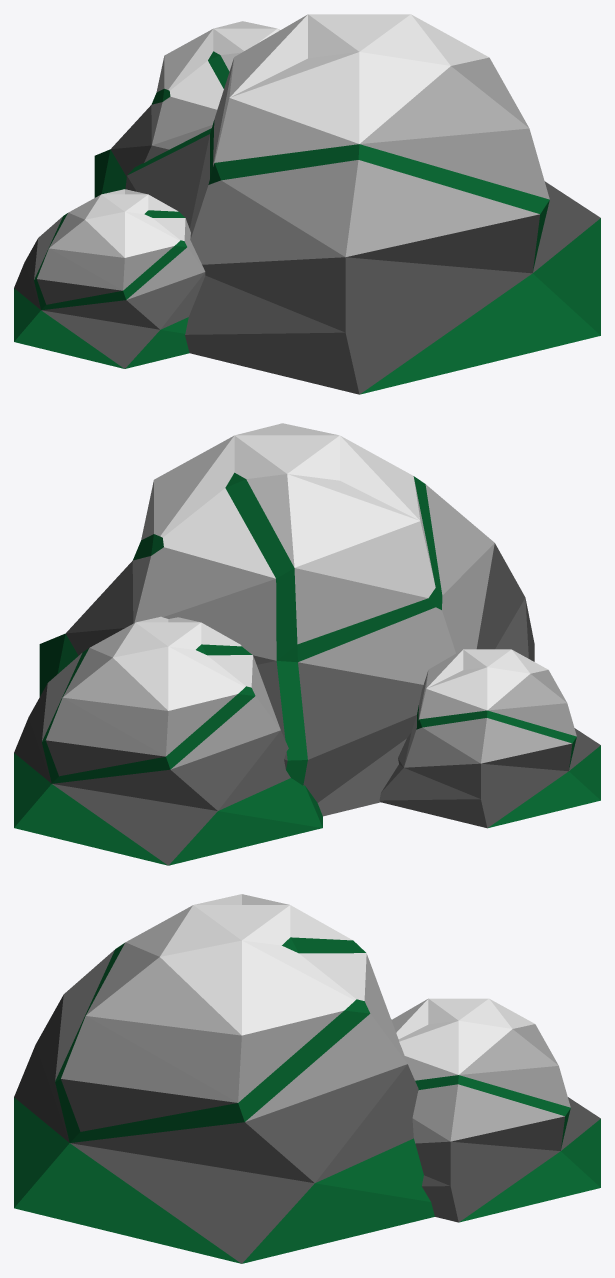
File: Rocks.fbx
3 renders of one model, top to bottom at view 1: azimuth 30°, elevation 25°; view 2: azimuth 150°, elevation 25°; view 3: azimuth 270°, elevation 25°, orthographic. The views are drawn at different scales.
Visible parts, largest first — view 1: Rocks; view 2: Rocks; view 3: Rocks.
Part boxes in pixels (bbox=[...]): Rocks: bbox=[14, 14, 600, 394]; Rocks: bbox=[14, 423, 600, 865]; Rocks: bbox=[14, 894, 600, 1263].
Size of the model in its own units: 0.7486 by 0.7883 by 0.332.
